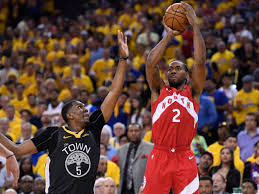ball: (162, 1, 193, 32)
